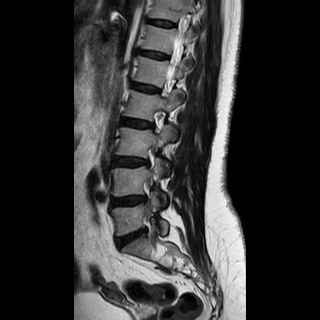RFS0: (142, 101, 169, 136)
